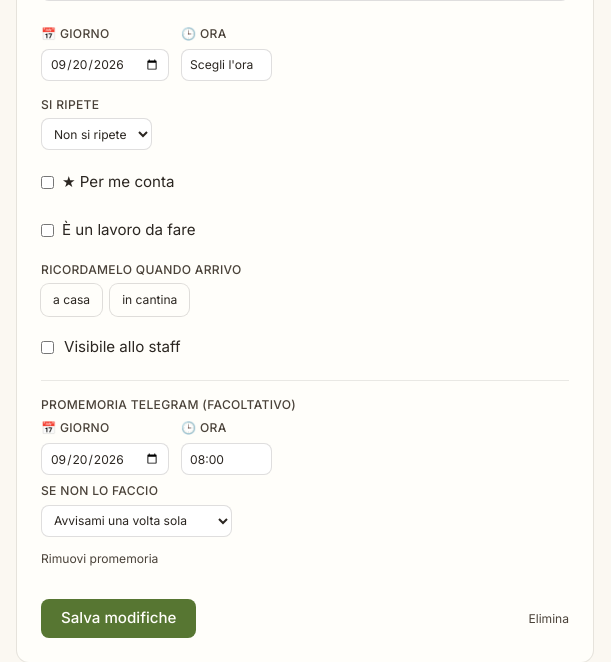
🔴 acceso, usa le parole della ricorrenza più minuti e ore › 🔴 scegliendo i minuti il numero sale a cinque, e sotto non si può scendere
(page scrolled)
Select "Insisti finché non lo chiudo" in the dropdown named "Sollecito" at (136, 521), box [41,504,232,537]
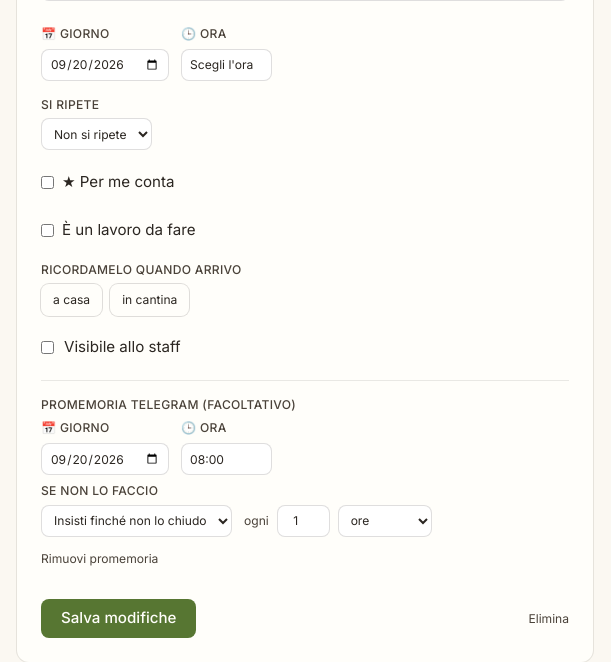
Select "minuti" in the dropdown named "Unità del sollecito" at (385, 521), box [338,504,432,537]
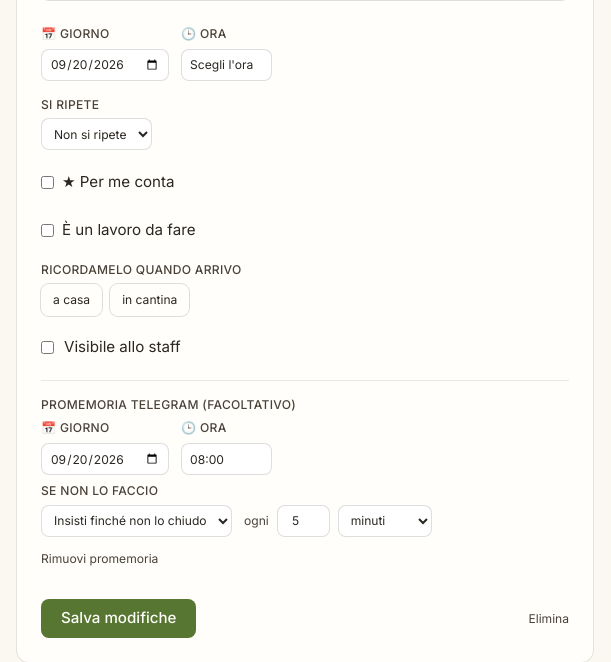
Result: the number field named "Ogni quanto sollecitare" holds "5" at [277,504,330,537]
